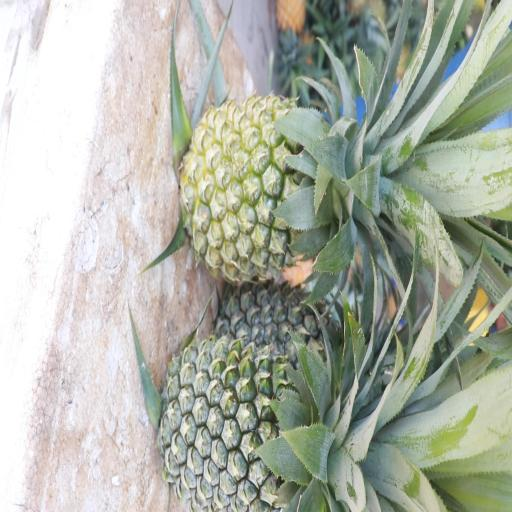Pineapple - v8 v1: (184, 90, 356, 279)
